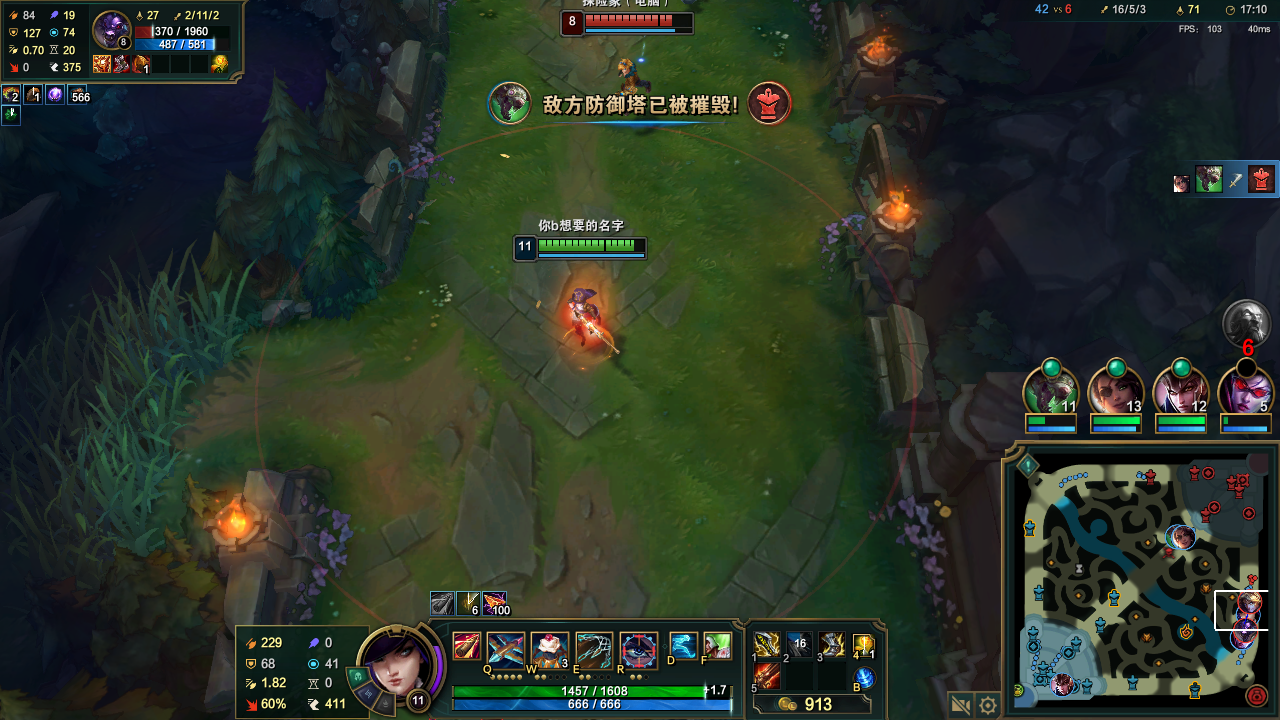DFYX: (584, 16, 677, 30)
